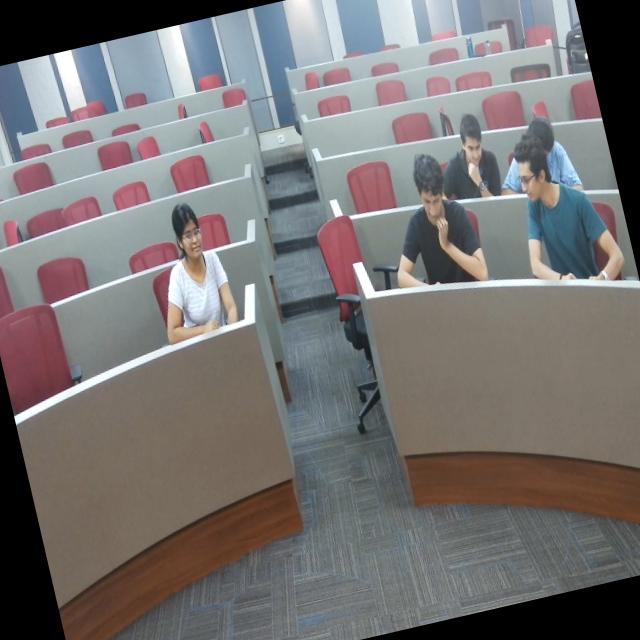cheating: (496, 128, 627, 320)
non-cheating: (386, 134, 494, 328)
